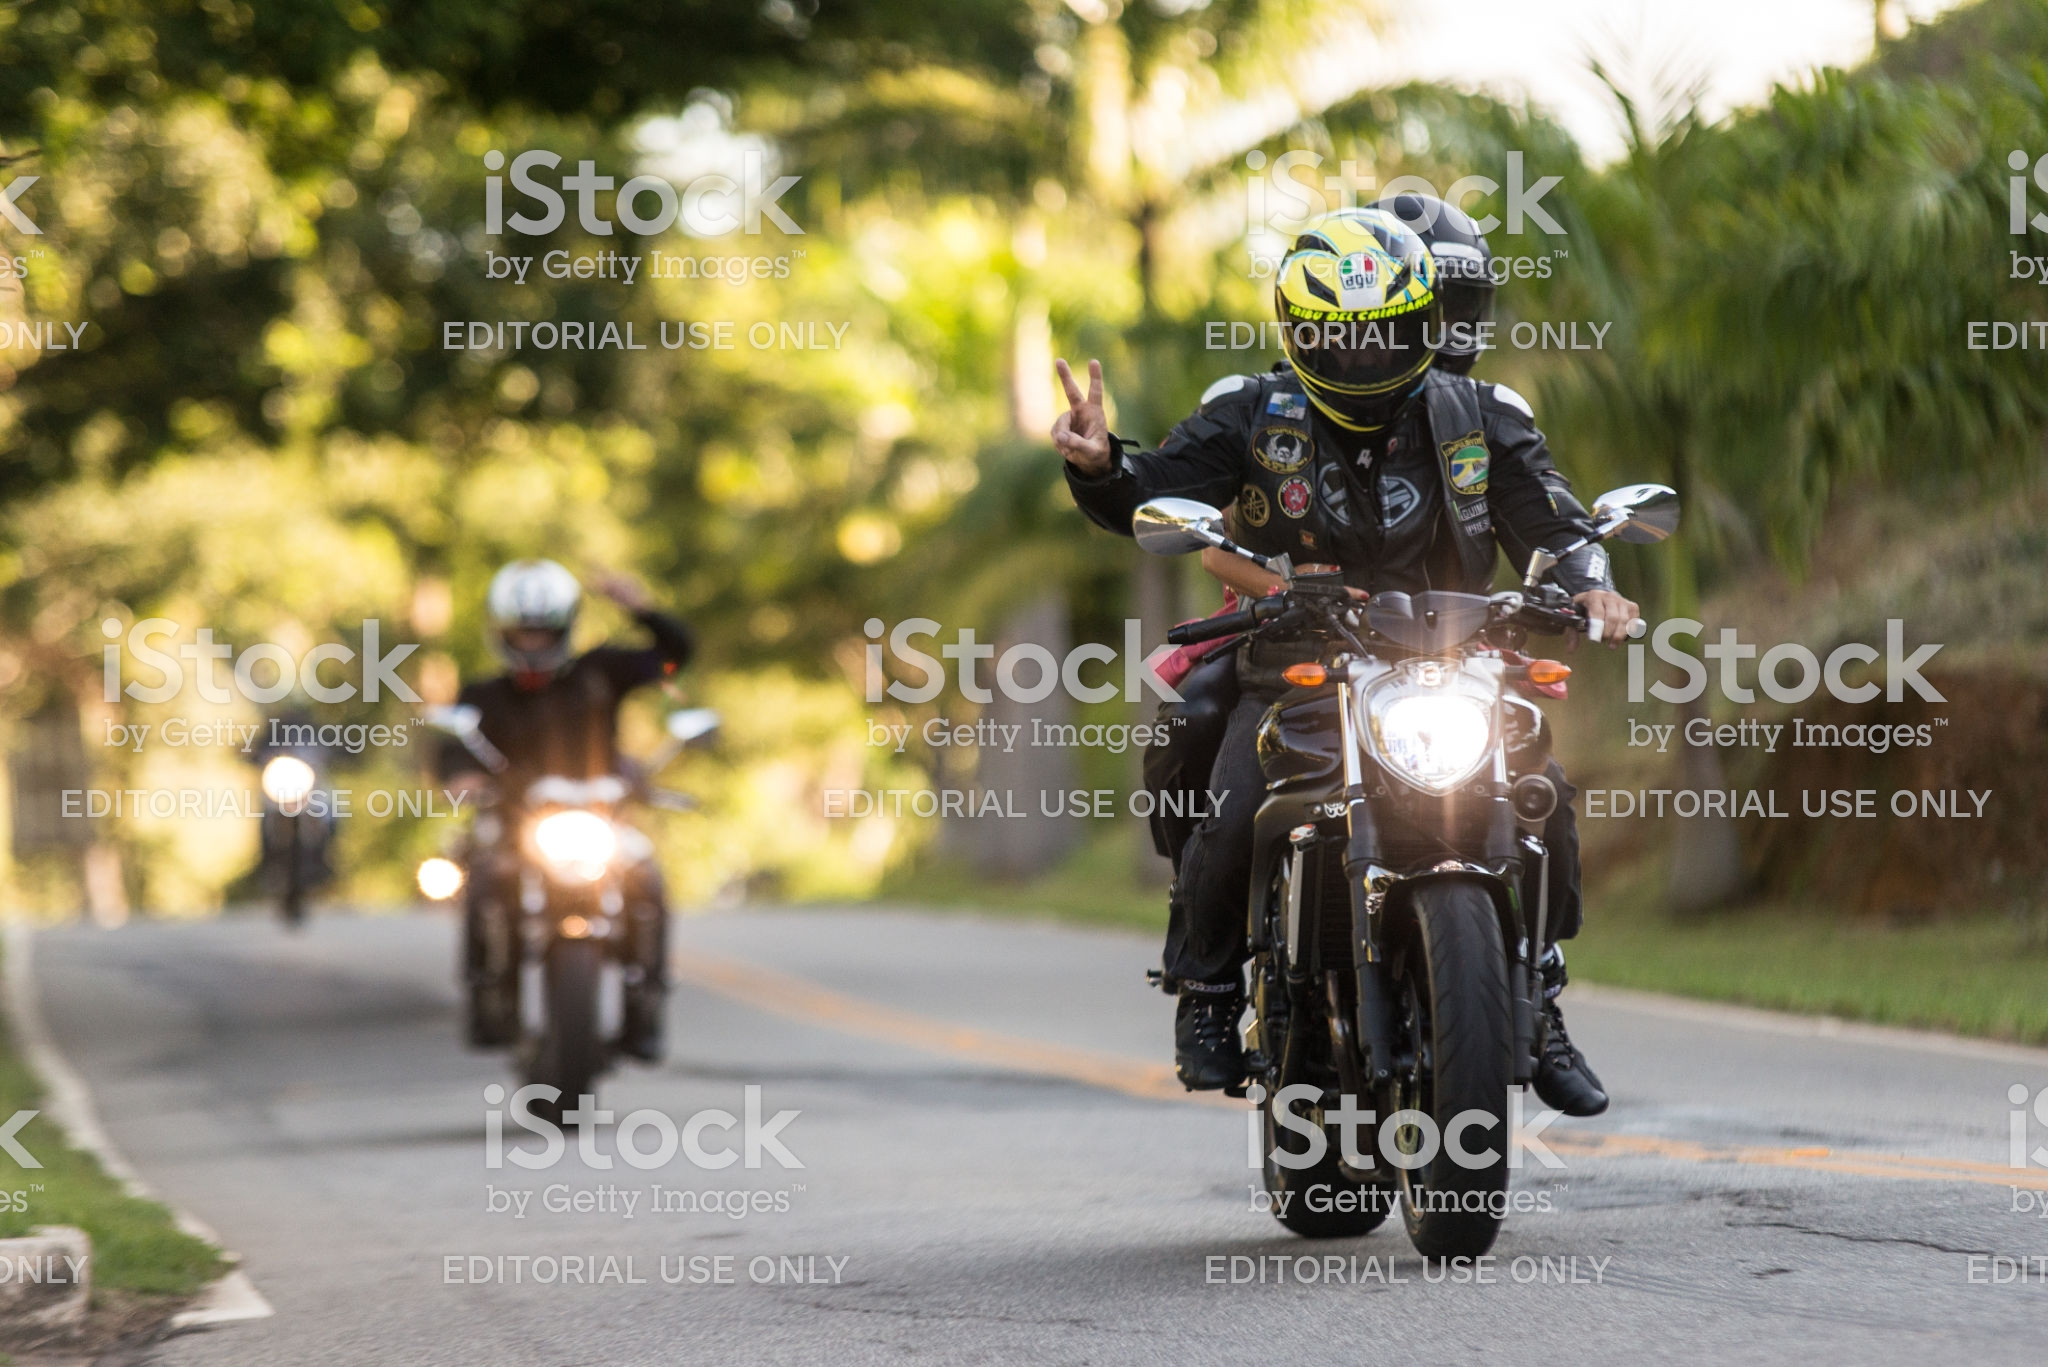helmet: (1270, 217, 1459, 424), (456, 551, 599, 671)
